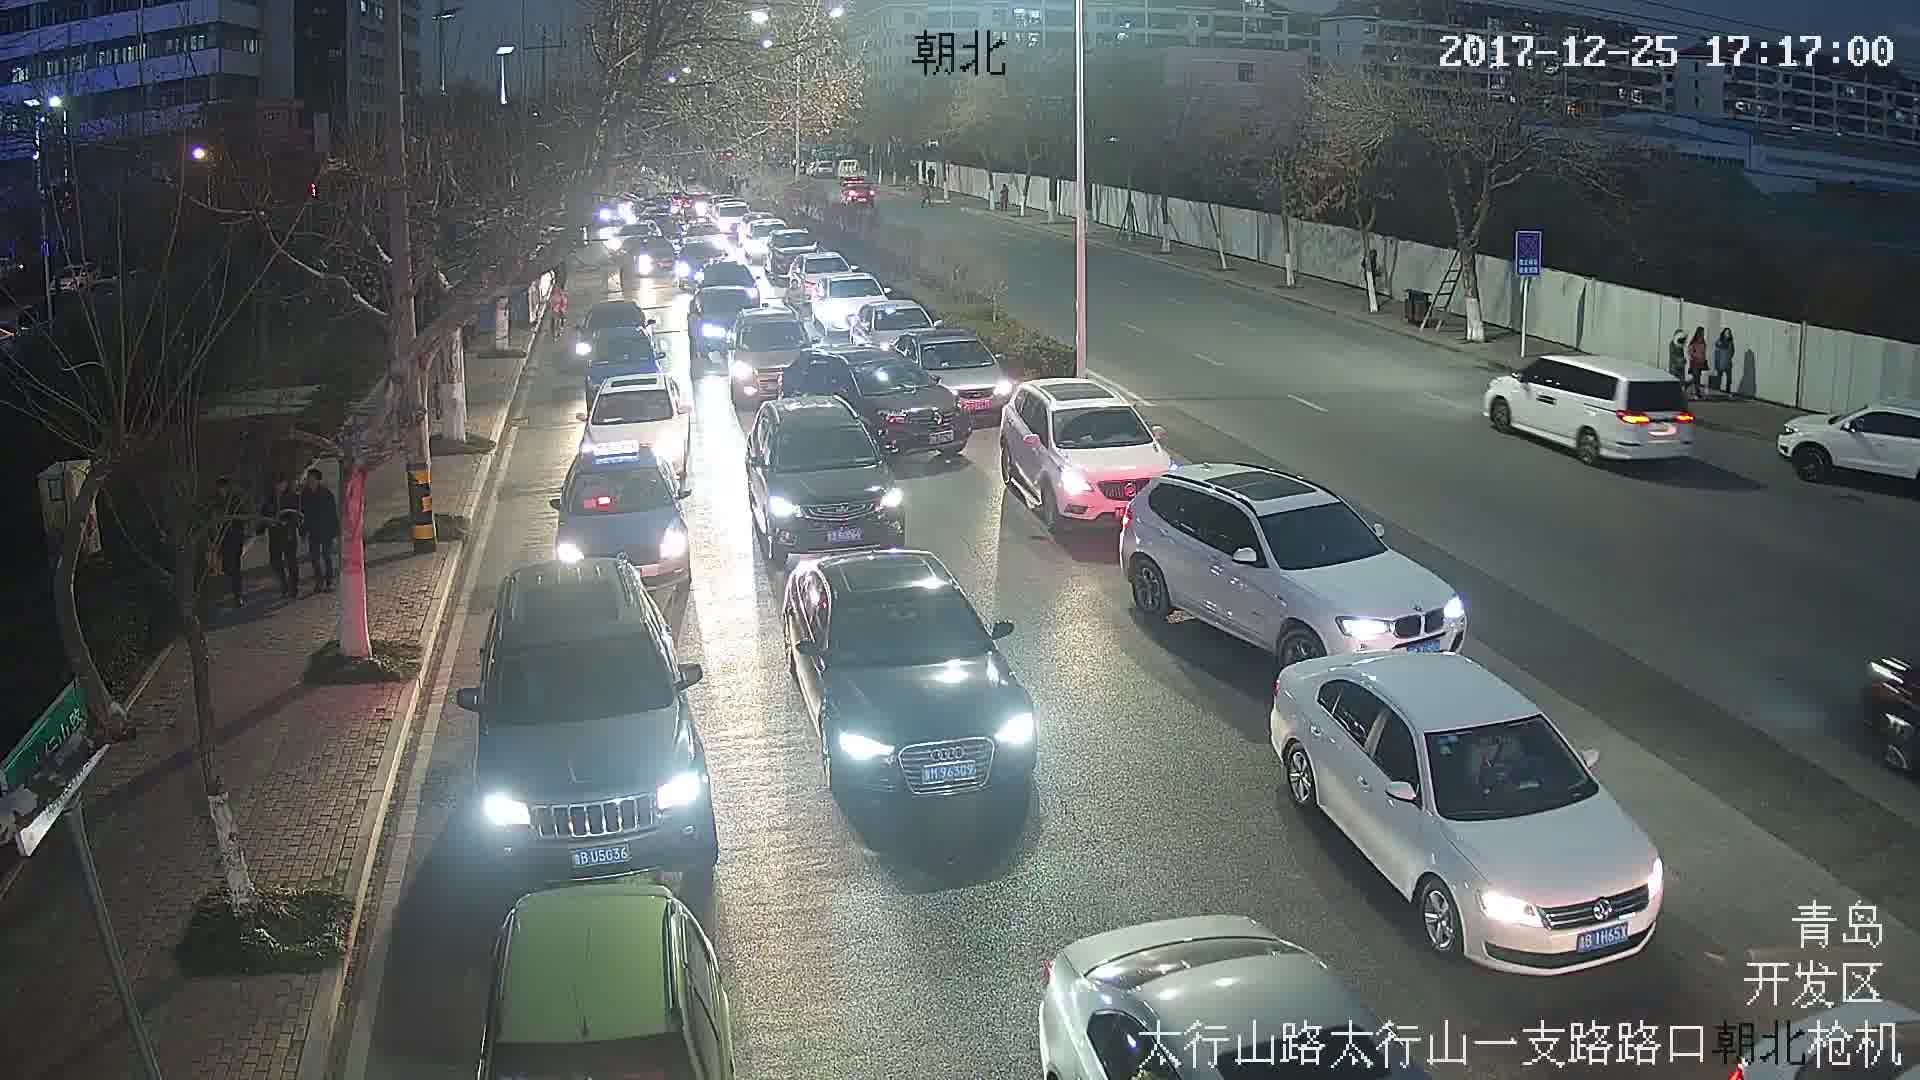car: (1268, 656, 1680, 975), (466, 560, 717, 875), (1121, 462, 1467, 667), (771, 555, 1039, 803), (745, 394, 917, 550), (1007, 380, 1175, 527), (1485, 357, 1693, 469), (543, 448, 695, 582)
person: (205, 480, 257, 610), (296, 469, 338, 594), (270, 480, 303, 591), (1712, 324, 1745, 396), (1693, 328, 1710, 399), (545, 287, 567, 337), (1668, 330, 1681, 382)
